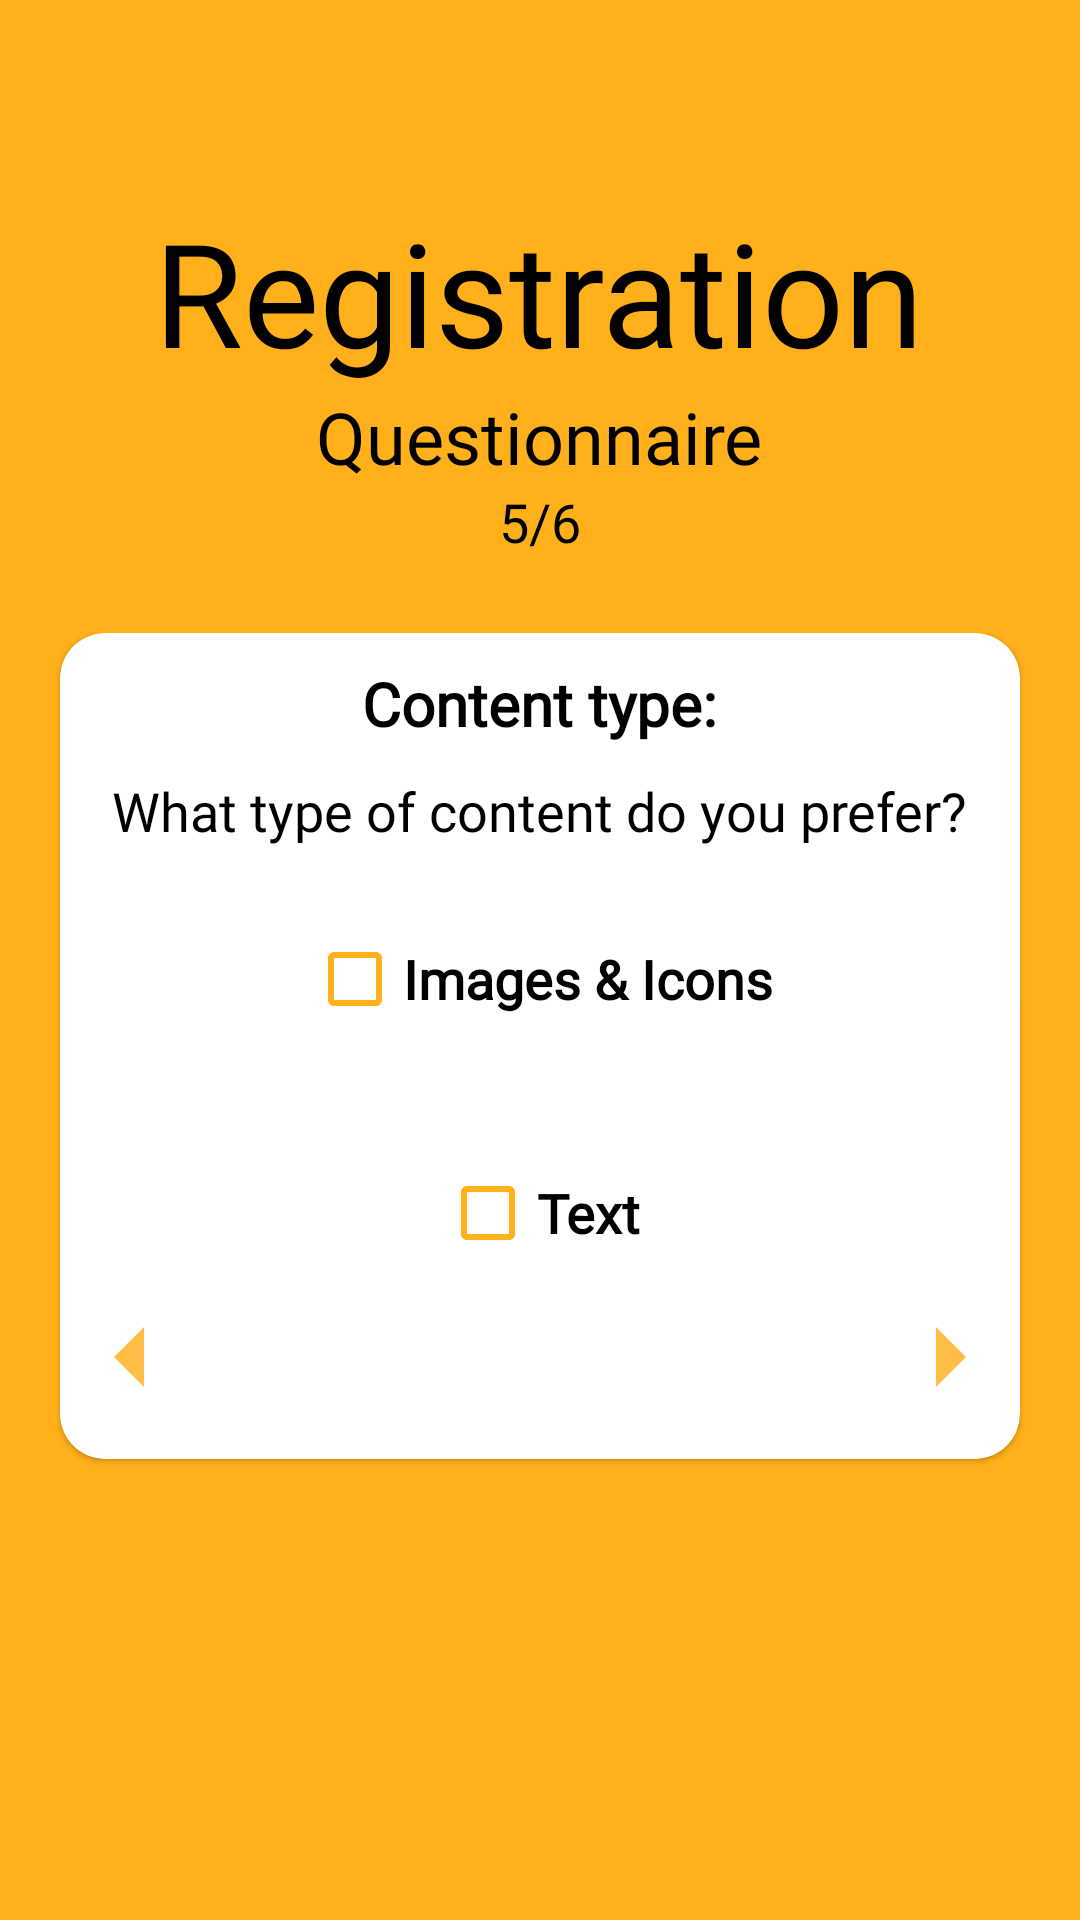

Icons on this 1080 x 1920 Android screen, each with the point to tap as point (x, y):
arrow left: point (129, 1357)
arrow right: point (951, 1357)
